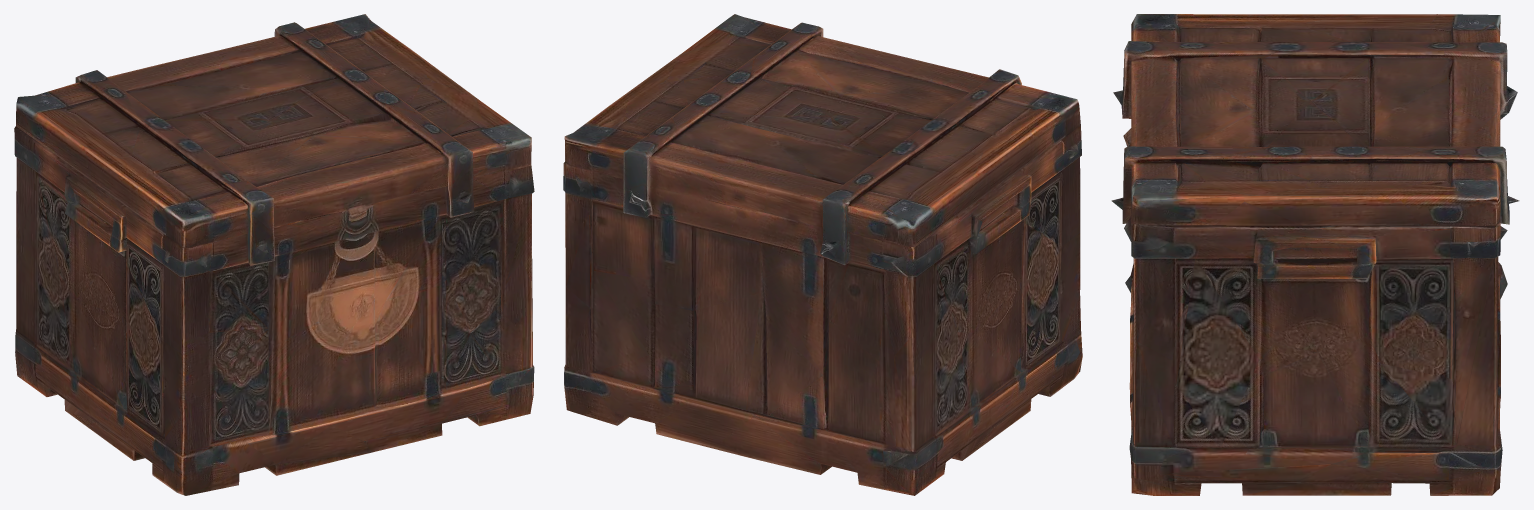
Rendered from chest.glb.
3 views of the same model, side by side, from view 1: azimuth 30°, elevation 25°; view 2: azimuth 150°, elevation 25°; view 3: azimuth 270°, elevation 25° (orthographic). The views are drawn at different scales.
Size of the model in its own units: 2 by 1.47 by 1.78.
1 material, 1 textured.
